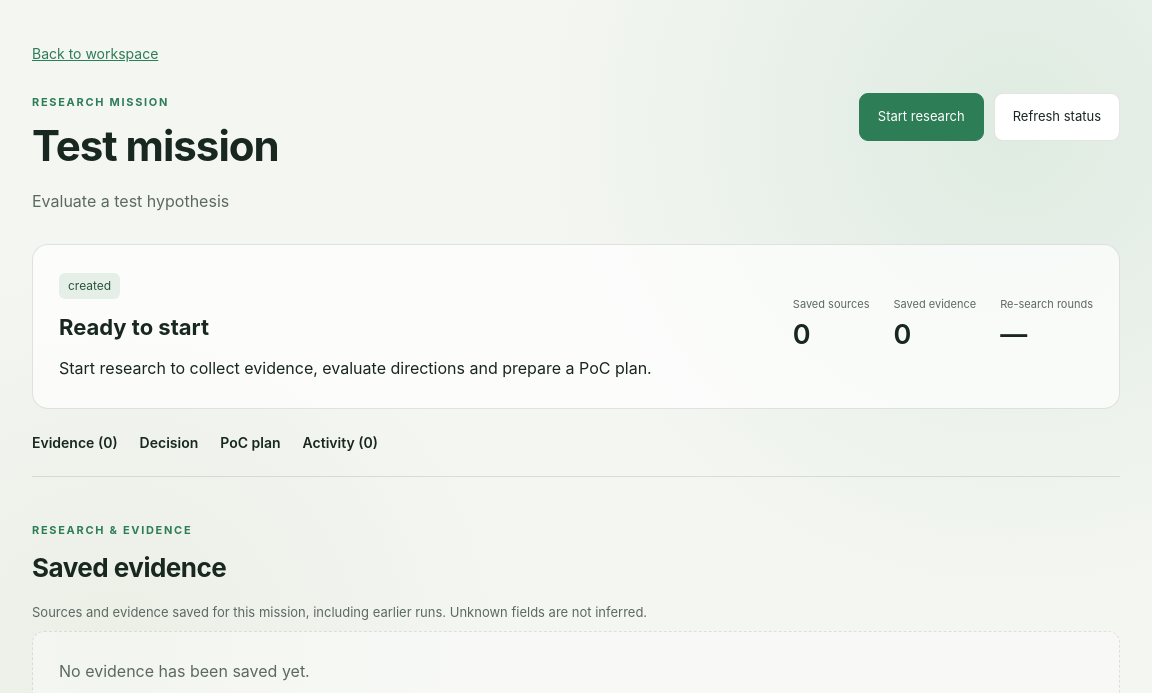
Test: a failed run request requires a status refresh before another attempt
Click the button "Start research": (921, 117) [859, 93, 984, 140]
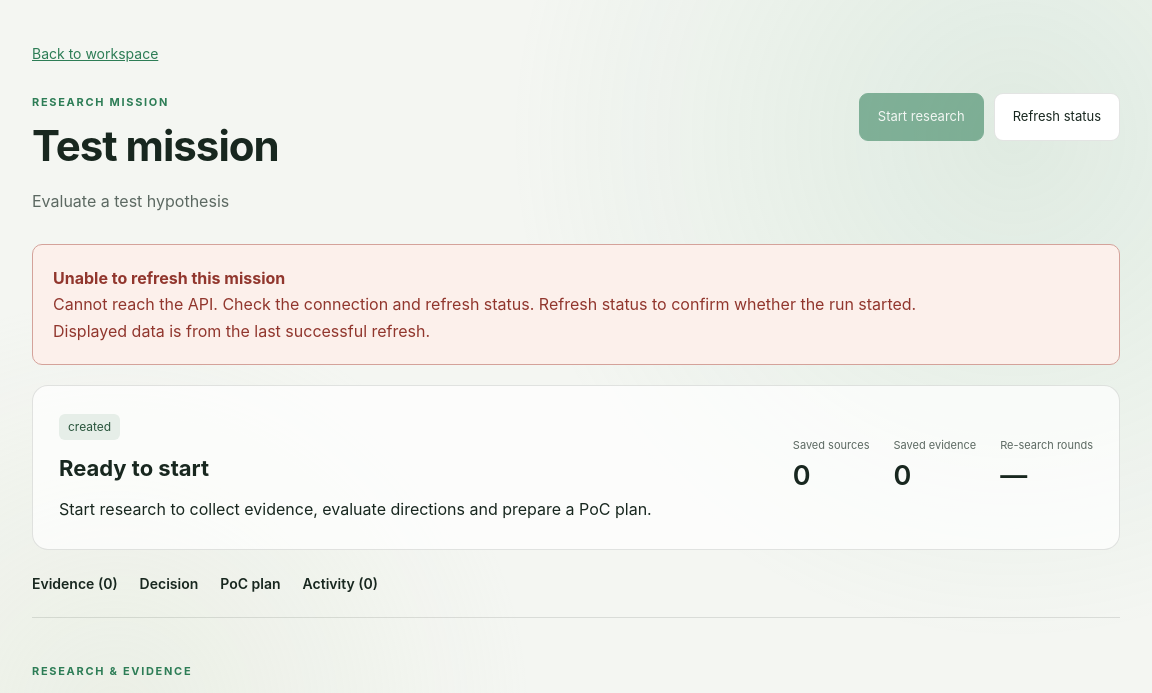
Expected: the button "Refresh status" is shown, [994, 93, 1120, 140]
Now the message is shown, box [32, 244, 1120, 365]
Now the button "Start research" is disabled, box [859, 93, 984, 140]
